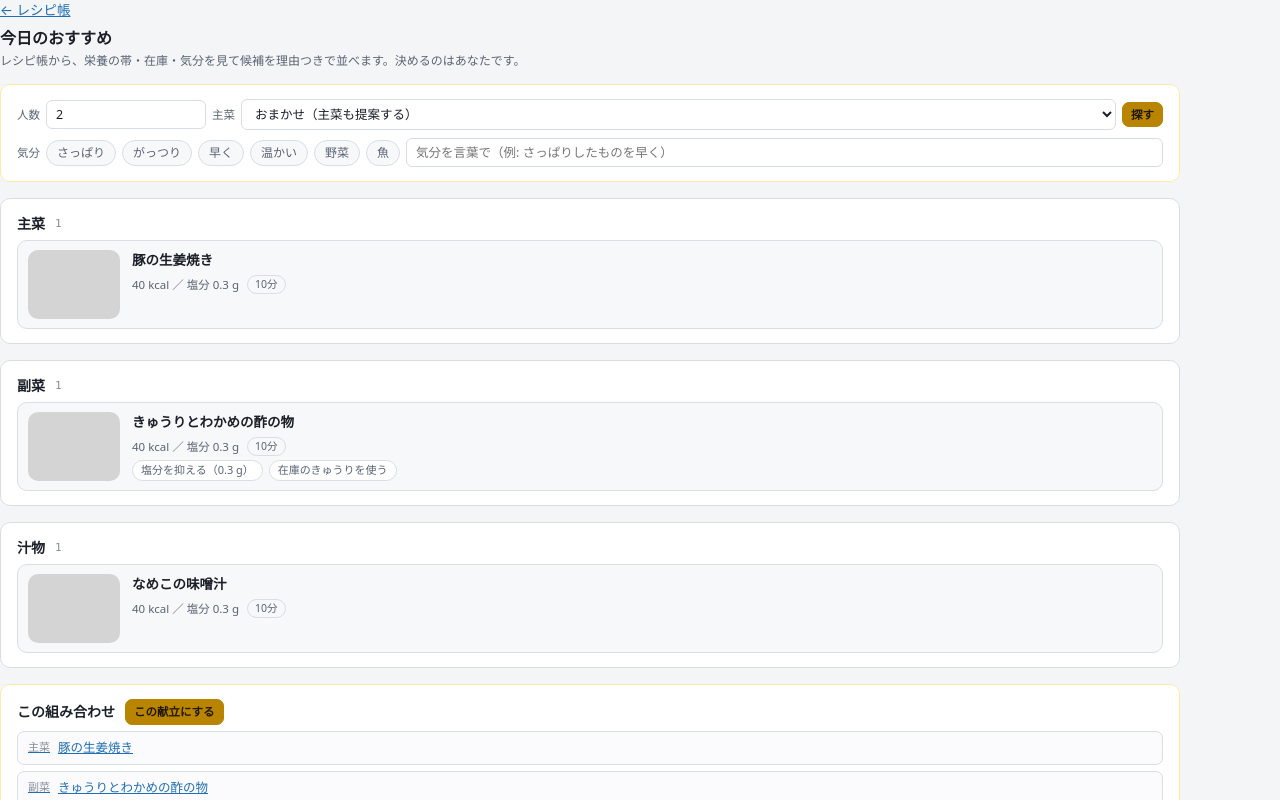
Test case: kitchen menu — 今日のおすすめ（ADR-018 D6） › plan の 4xx はサーバの文言をそのまま出す
Expected: the heading "この組み合わせ" is shown, top-left (17, 701), bottom-right (115, 722)
Click the button "この献立にする" at (174, 712), box top-left (125, 699), bottom-right (224, 725)
(page scrolled)
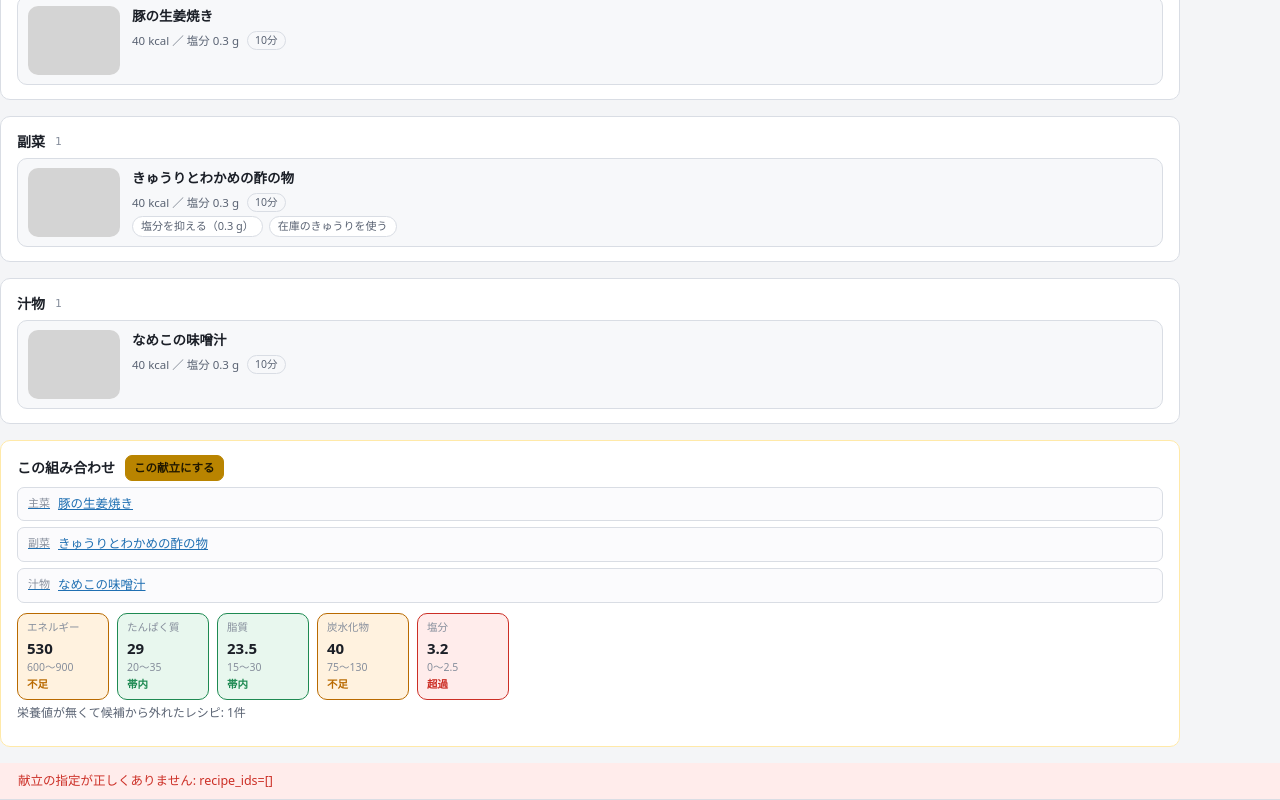
Now the text "献立の指定が正しくありません: recipe_ids=[]" is shown, box top-left (0, 762), bottom-right (1279, 799)
